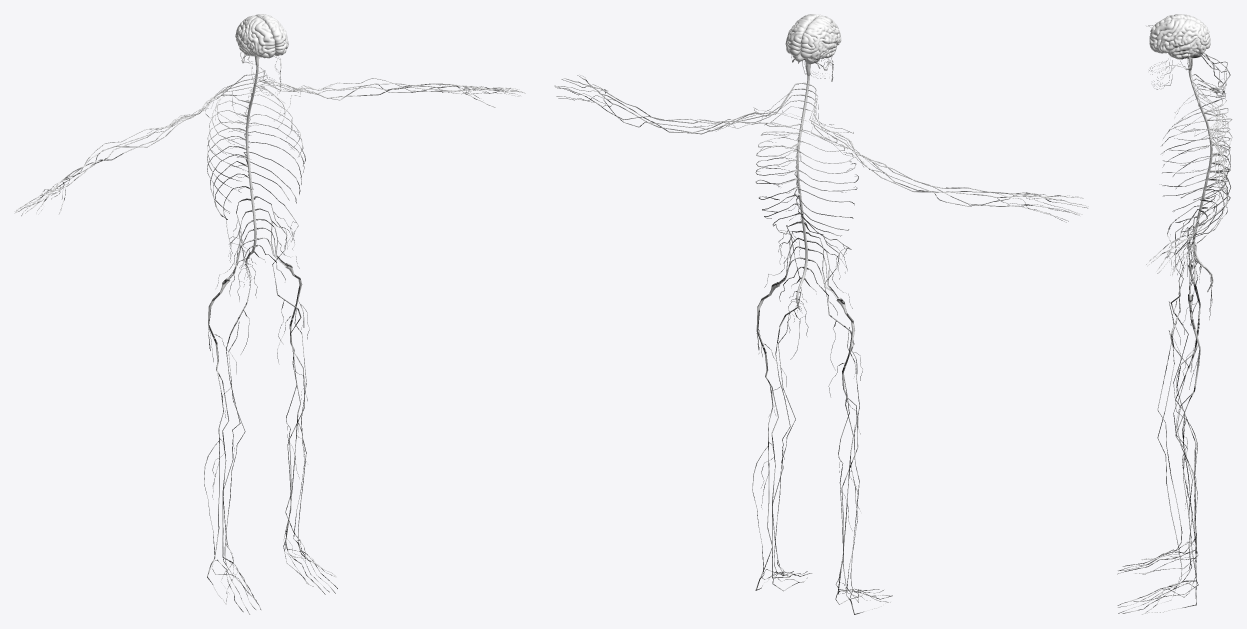
Rendered from nurv_ar.fbx.
The picture shows the model from 3 angles, left to right: view 1: azimuth 30°, elevation 25°; view 2: azimuth 150°, elevation 25°; view 3: azimuth 270°, elevation 25°; orthographic projection. The views are drawn at different scales.
Parts seen in each view (by area): view 1: Nervous_Cerebrum1; view 2: Nervous_Cerebrum1; view 3: Nervous_Cerebrum1.
Boxes of the visible parts, bbox=[...] form: Nervous_Cerebrum1: bbox=[14, 14, 525, 614]; Nervous_Cerebrum1: bbox=[554, 14, 1088, 614]; Nervous_Cerebrum1: bbox=[1117, 14, 1232, 614].
Bounding box in the file's own units: 27.36 × 29.19 × 5.29.
Materials: 1 (1 with a texture image).
